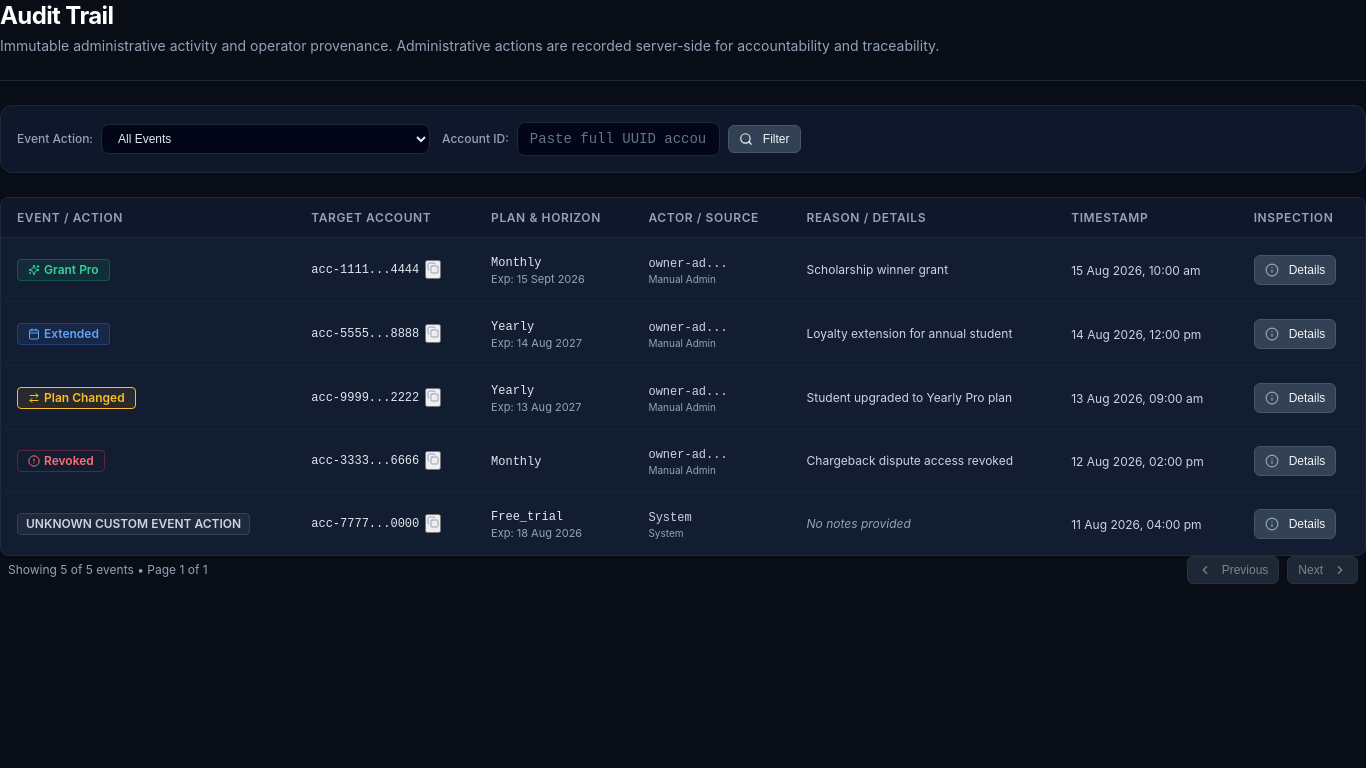
Test: PHASE 9 — Audit Trail UI & Operator Activity Inspection Tests › 9. opens structured metadata details modal and closes via ESC and close button
Click the button "Details" in the row of "Grant Pro" at (1295, 270), box [1254,254,1336,284]
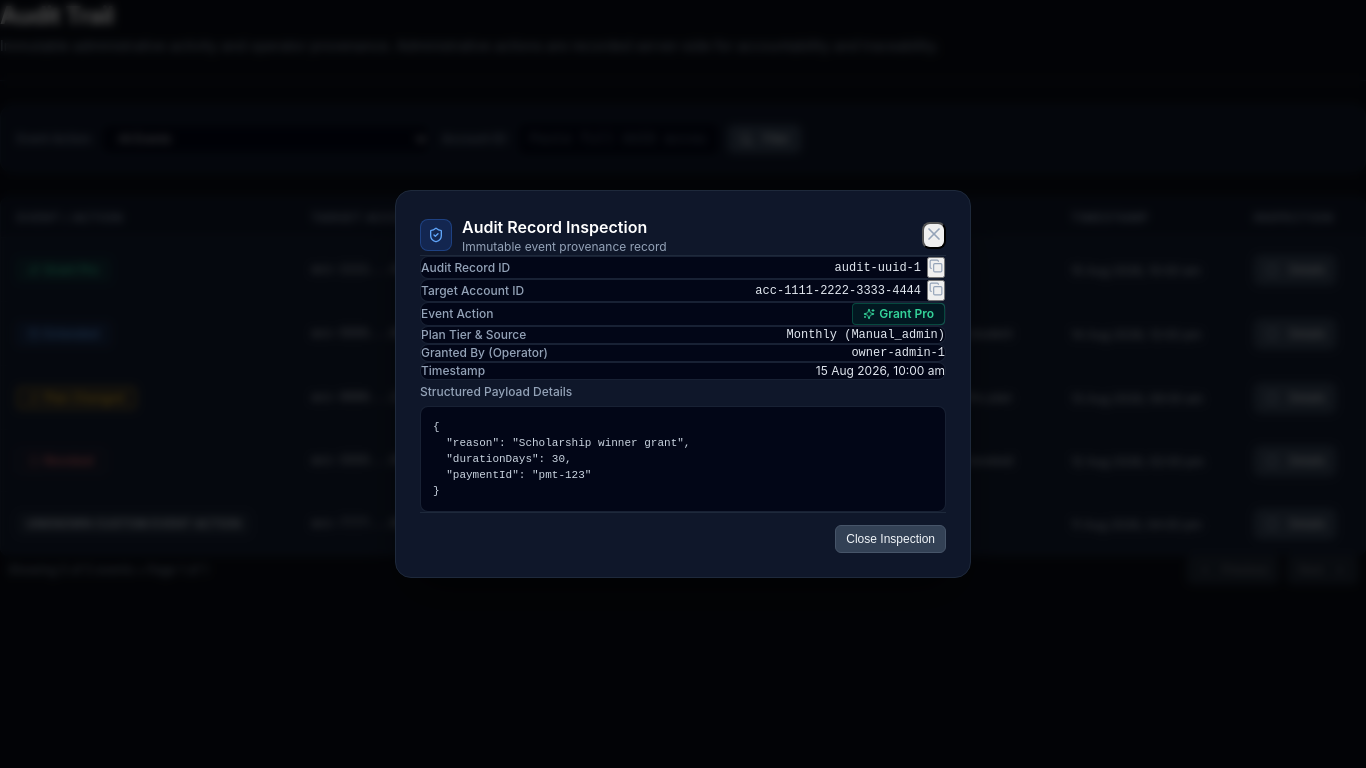
expect the heading "Audit Record Inspection" is shown: met, box [462,215,667,239]
expect the text "audit-uuid-1" is shown: met, box [835,260,921,276]
expect the text "acc-1111-2222-3333-4444" is shown: met, box [755,282,921,298]
# Close via Close Inspection button
Click the button "Close Inspection" at (891, 539), box [835,525,946,553]
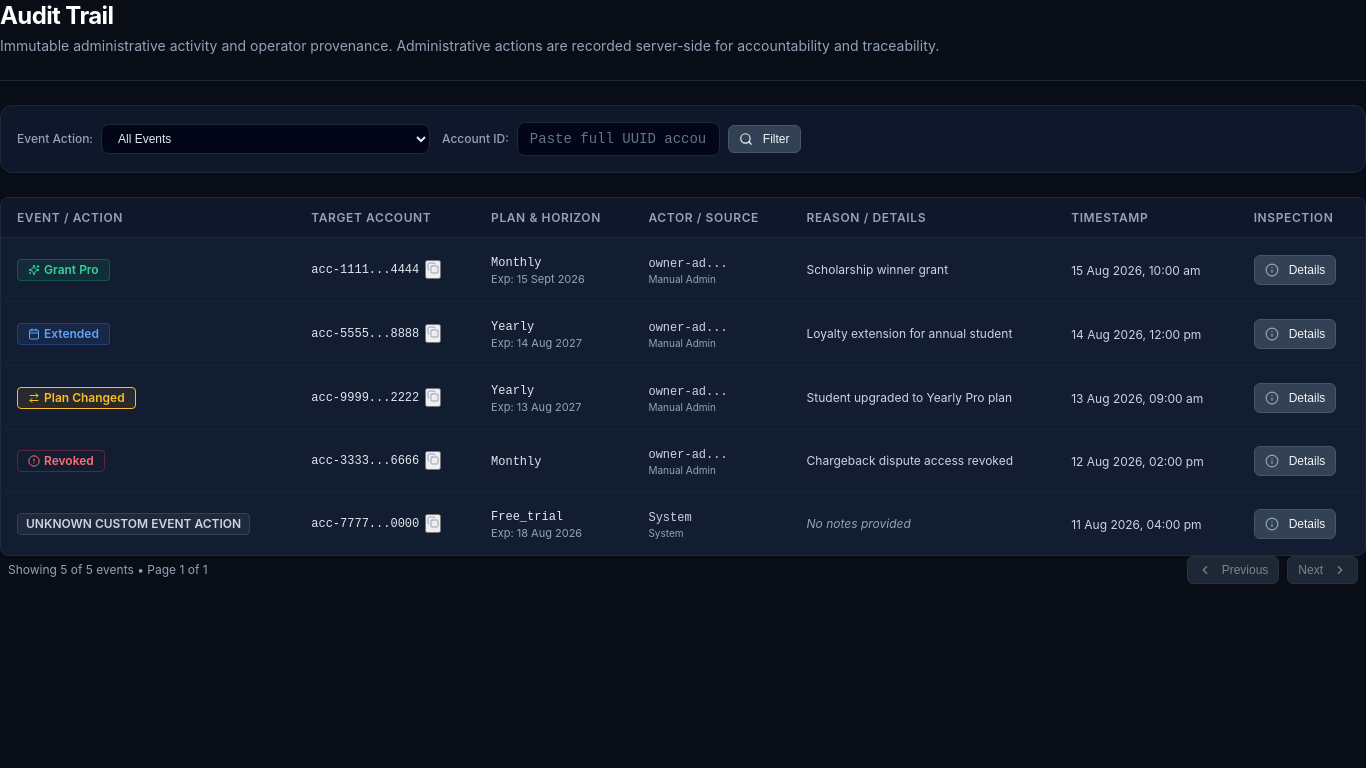
expect the heading "Audit Record Inspection" is gone: met
# Reopen and close via ESC key
Click the button "Details" in the row of "Grant Pro" at (1295, 270), box [1254,254,1336,284]
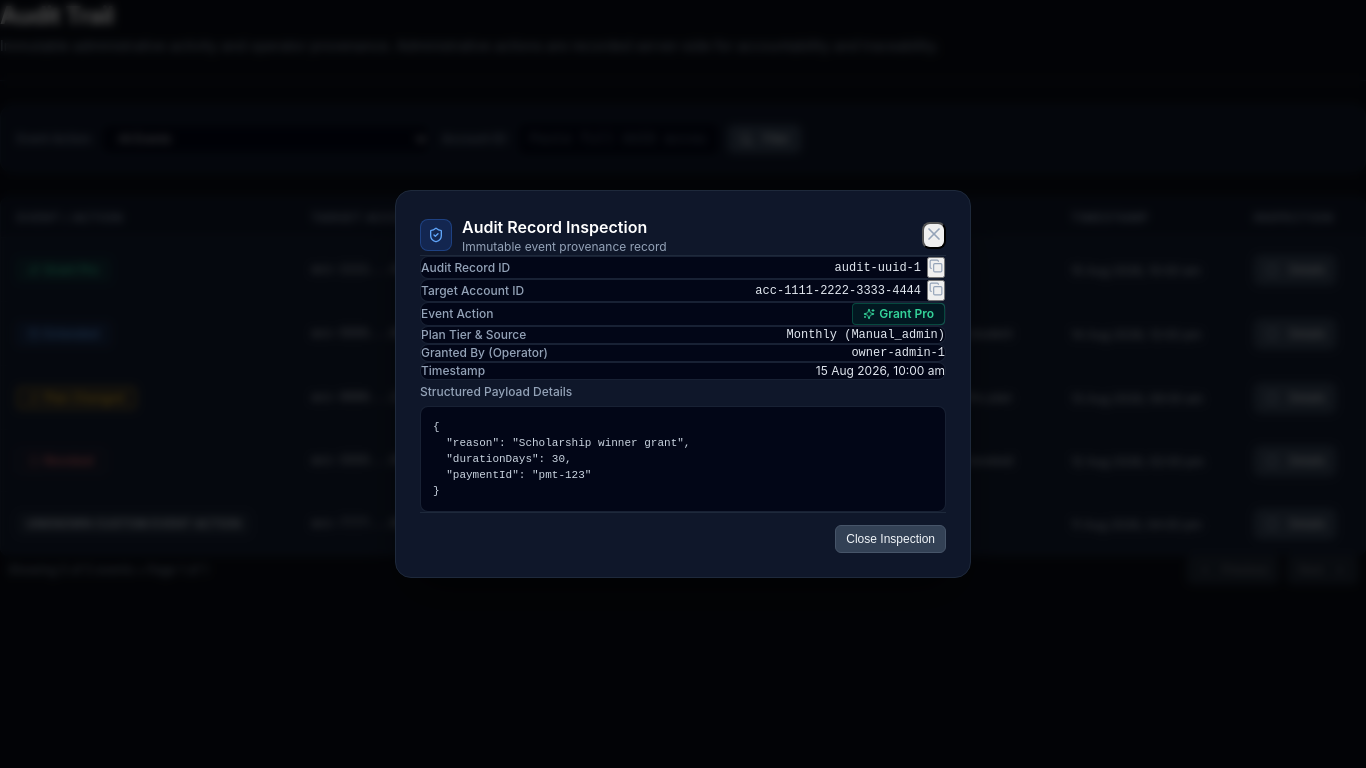
expect the heading "Audit Record Inspection" is shown: met, box [462,215,667,239]
Press Escape
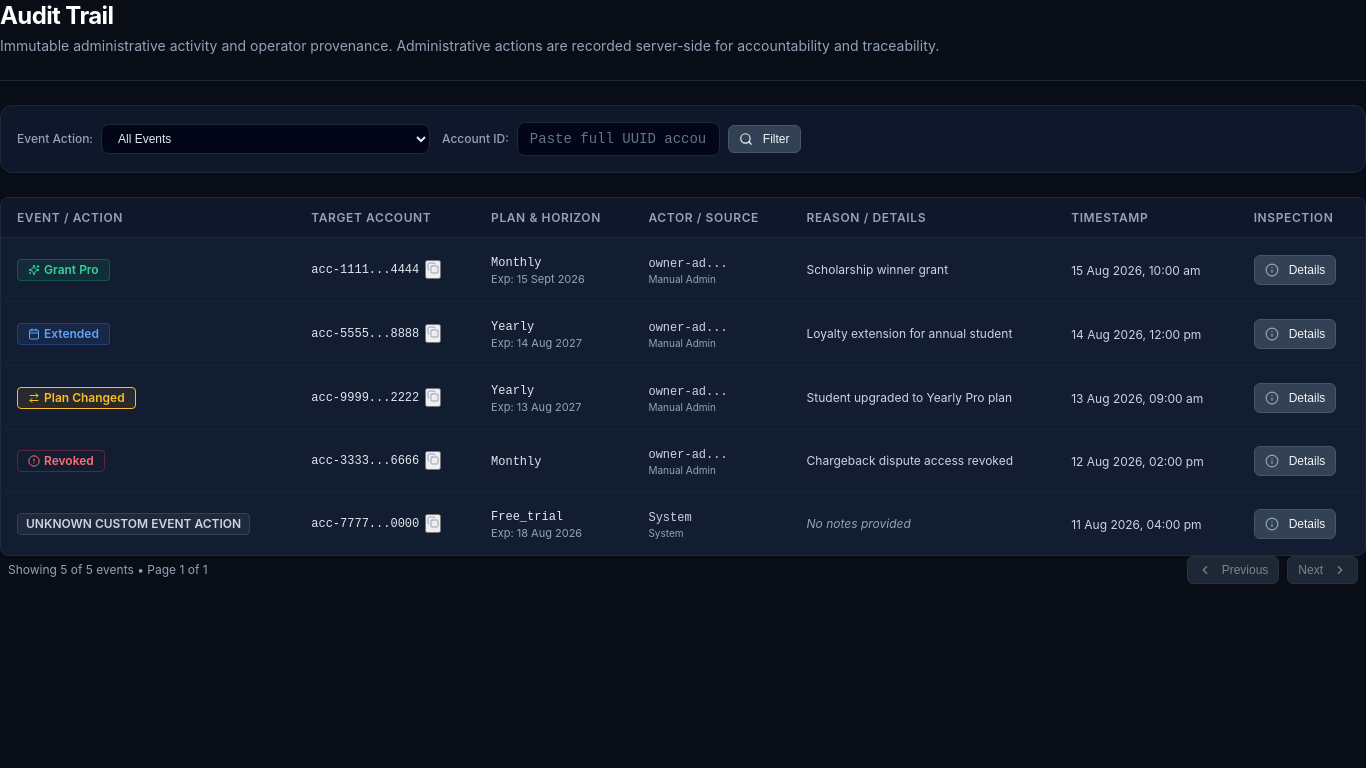
expect the heading "Audit Record Inspection" is gone: met
